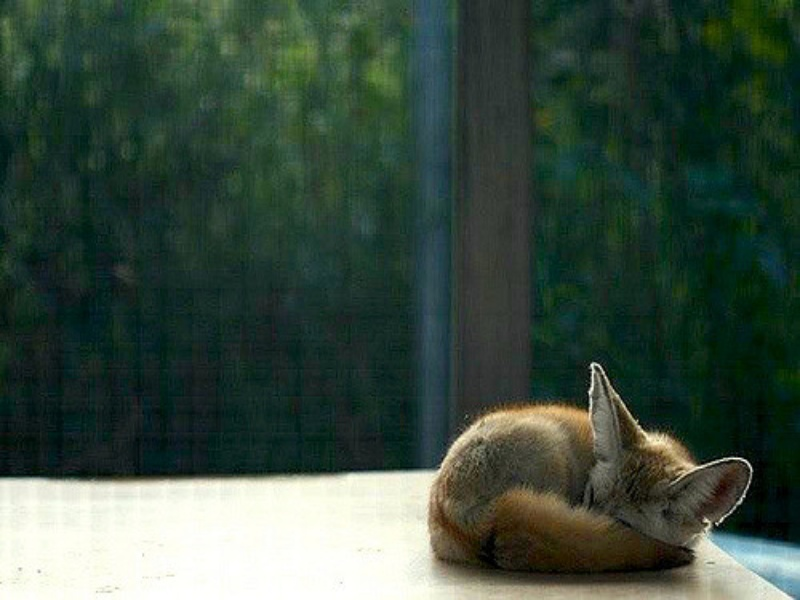fox: (411, 360, 761, 580)
